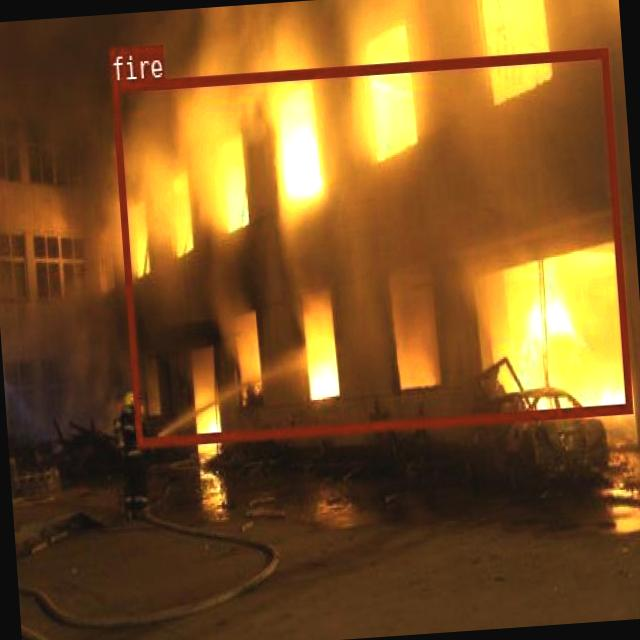fire: (110, 47, 631, 446)
